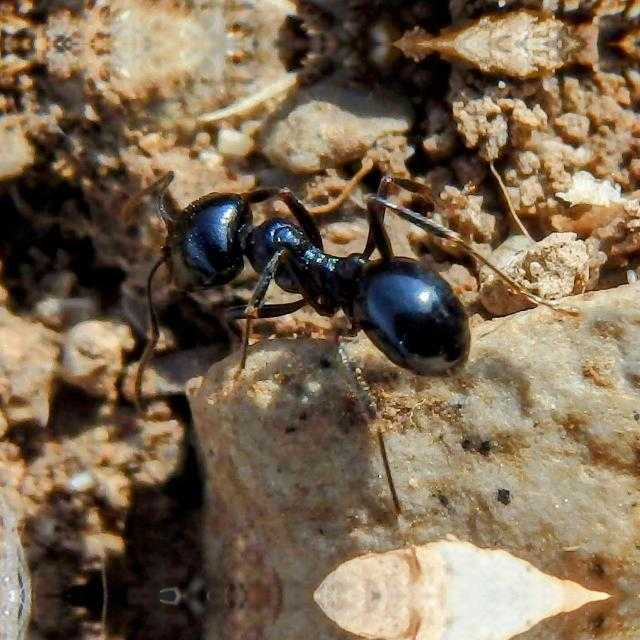Messor: (124, 153, 478, 415)
